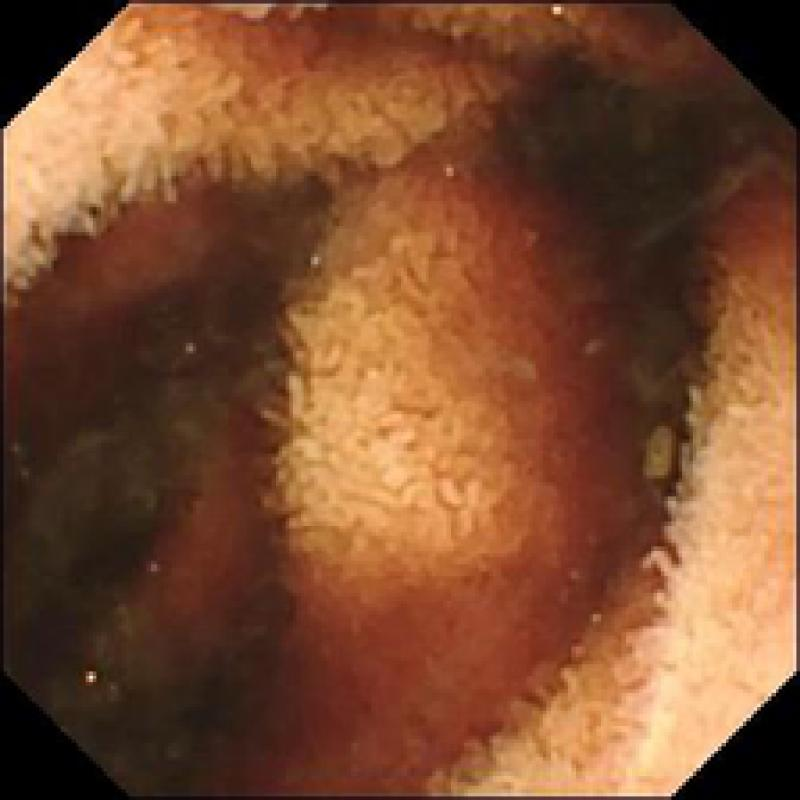bleeding: (147, 472, 264, 657)
